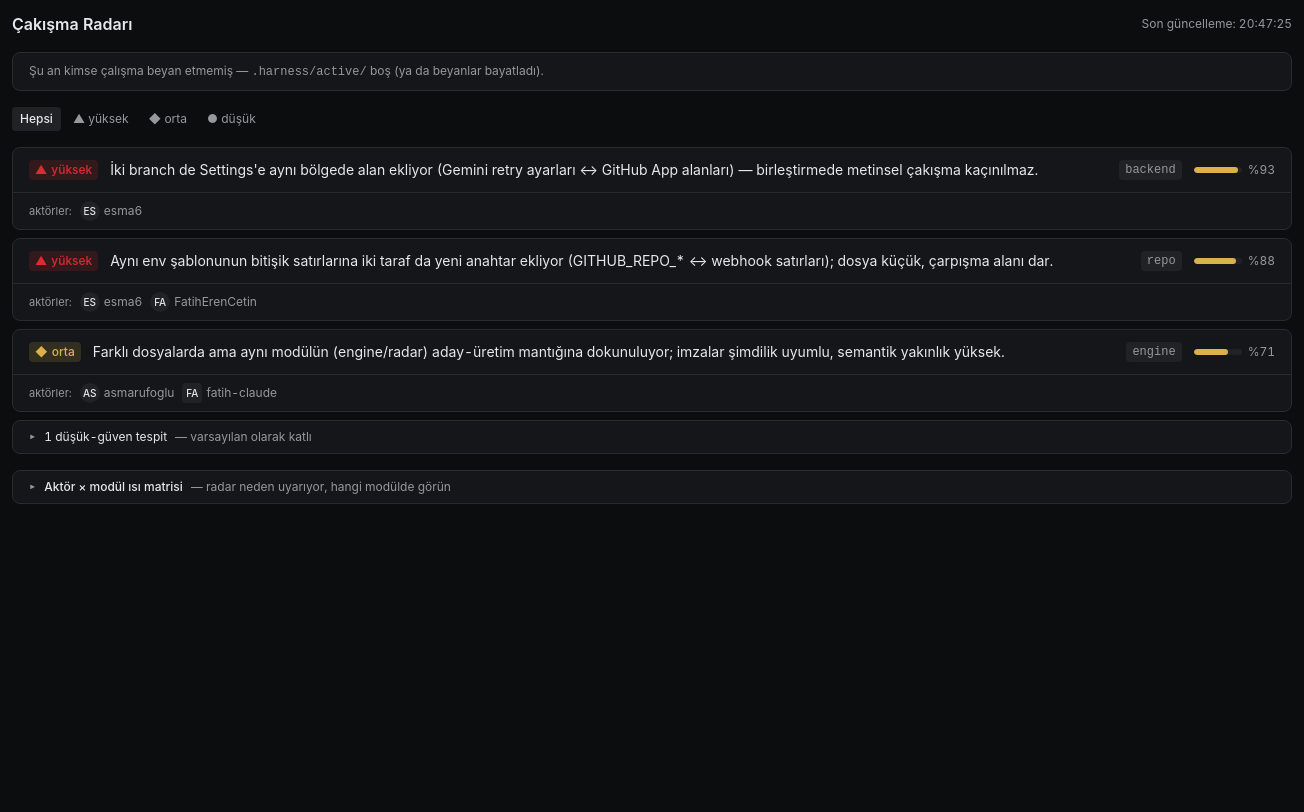
DetailSheet (#156 — Pencil MOGXv'ye dönüş) › satır tıklanınca panel açılır: dosyalar + deterministik sinyaller + gate notu
The image size is (1304, 812).
Click the 5th button.
click(652, 170)  # box [13,148,1291,192]
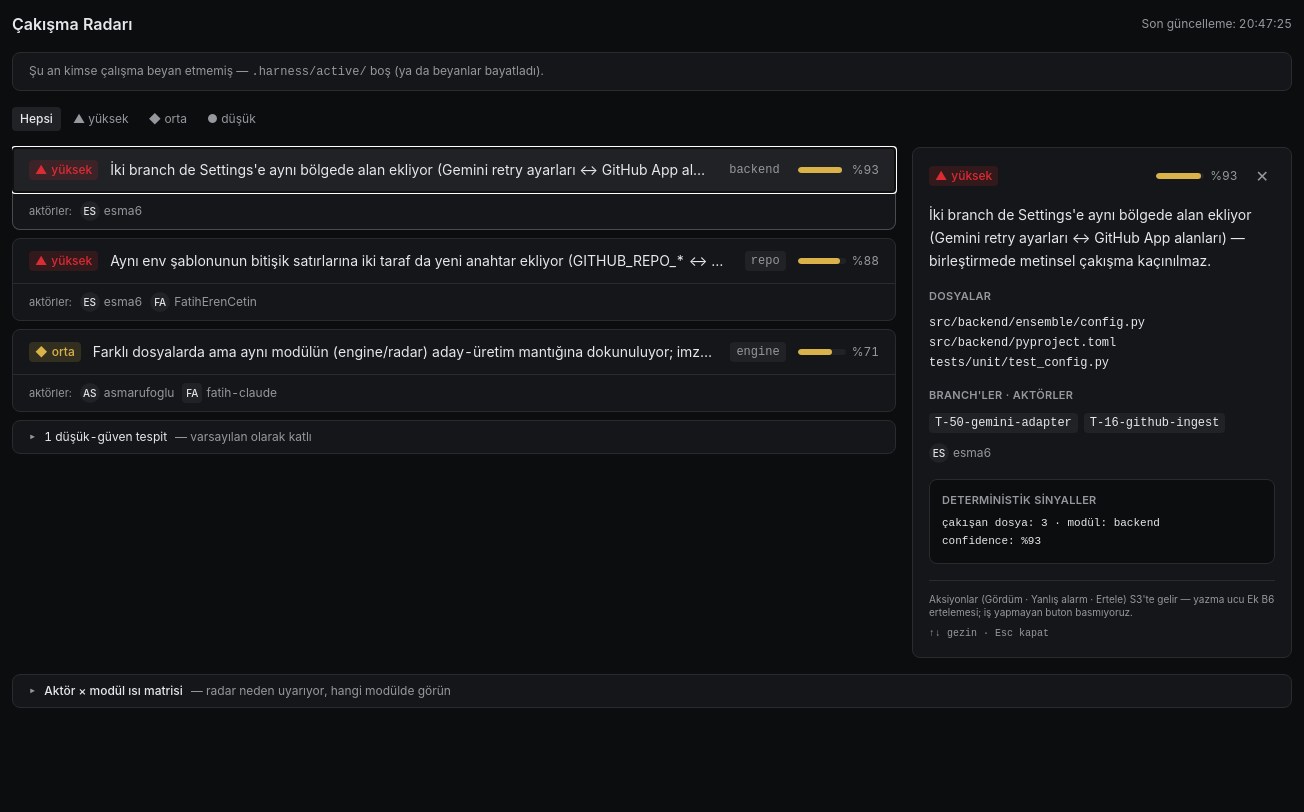
Result: the heading "DOSYALAR" is shown at [929,289,991,303]
Result: the list item "src/backend/ensemble/config.py" is shown at [929,316,1145,330]
Result: the heading "DETERMİNİSTİK SİNYALLER" is shown at [942,493,1096,507]
